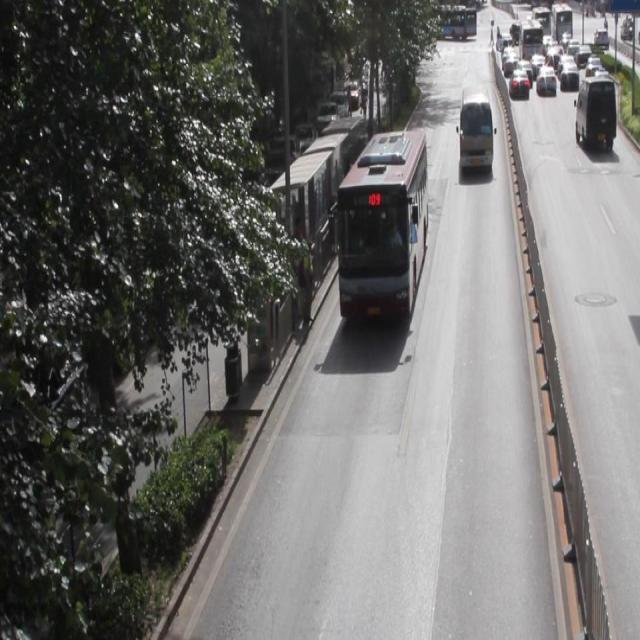truck: (574, 74, 615, 146), (459, 83, 492, 168)
van: (338, 126, 424, 315)
